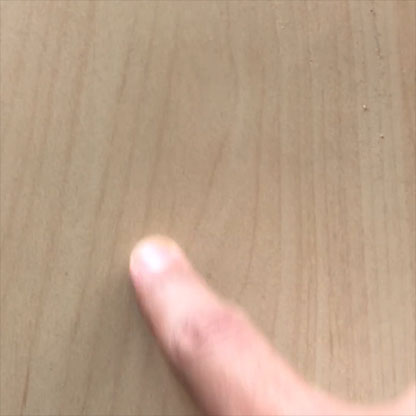fingertip: (128, 227, 199, 291)
